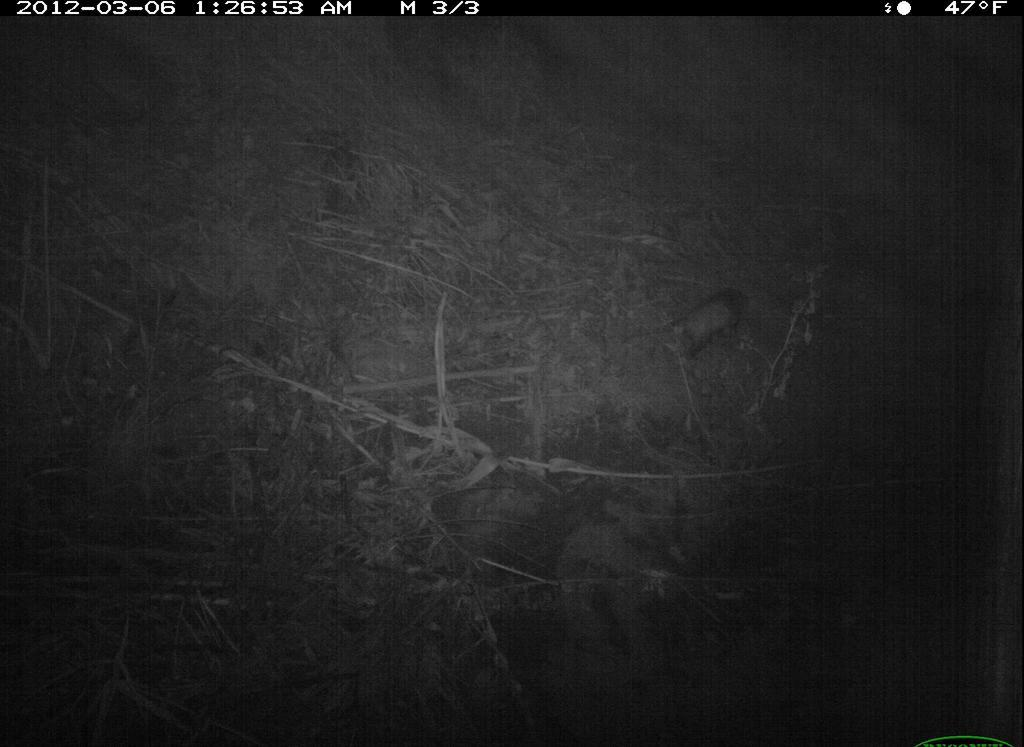opossum: (638, 262, 778, 408)
